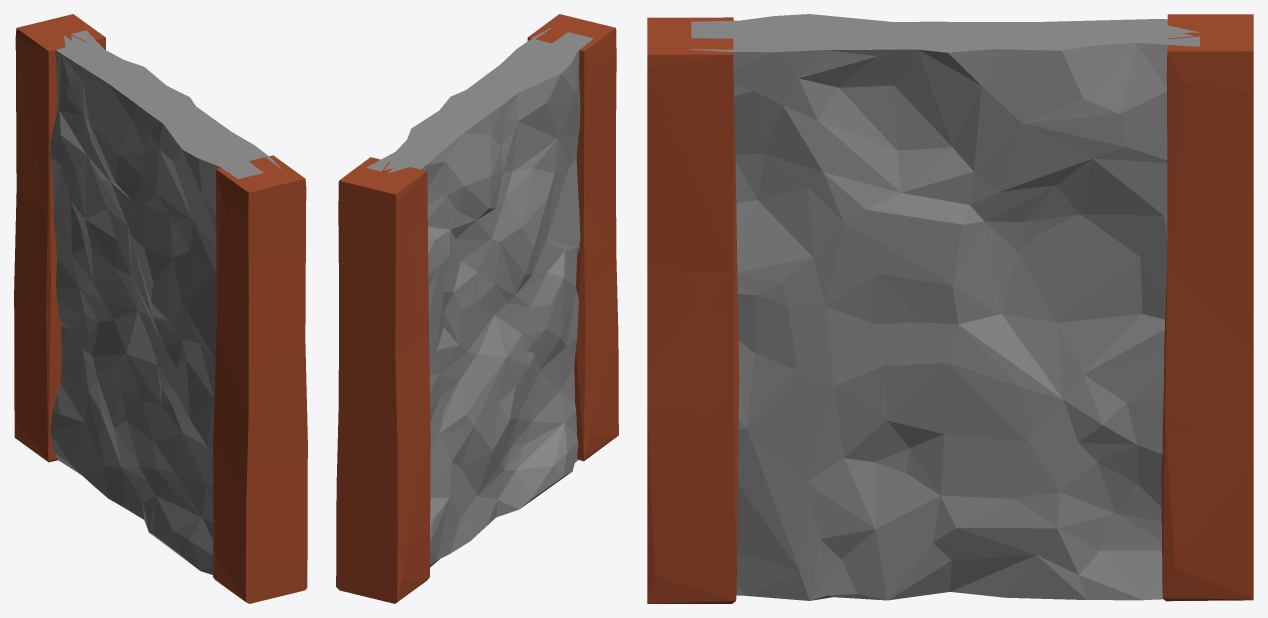
File: Stone wall.fbx
The picture shows the model from 3 angles, left to right: view 1: azimuth 30°, elevation 25°; view 2: azimuth 150°, elevation 25°; view 3: azimuth 270°, elevation 25°; orthographic projection. The views are drawn at different scales.
Parts seen in each view (by area): view 1: Stone wall; view 2: Stone wall; view 3: Stone wall.
Part boxes in pixels (x1,y1,x2,y2): Stone wall: (14,14,307,603); Stone wall: (336,14,618,603); Stone wall: (647,14,1253,603).
Bounding box in the file's own units: 0.5254 × 3 × 3.
